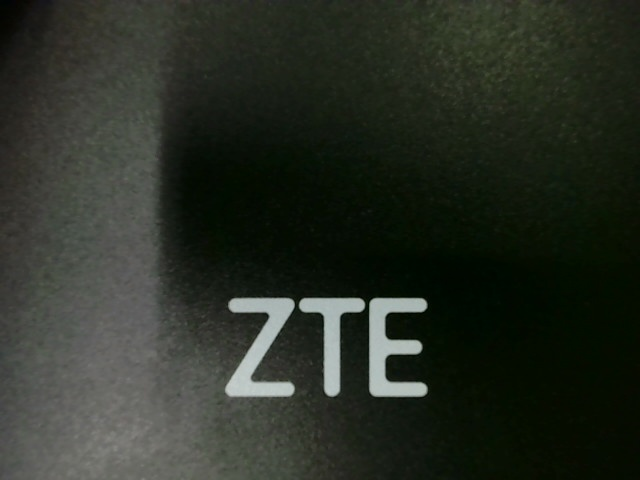AN_ZTE: (207, 285, 434, 401)
